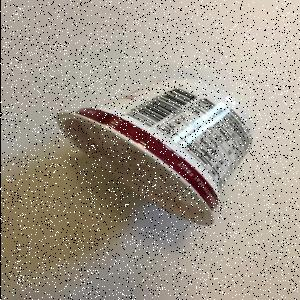Trash: (55, 78, 257, 228)
